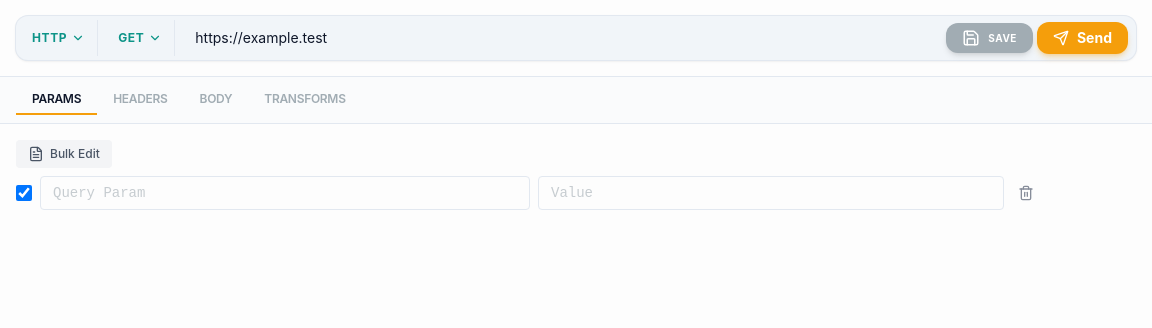
Test: RequestEditor body section › shows preview for valid JSON
This screenshot has width=1152, height=328.
Check: the button "GET" is shown, box top-left (106, 30), bottom-right (174, 46)
Click the button "body" at point(216, 100), box top-left (184, 85), bottom-right (248, 115)
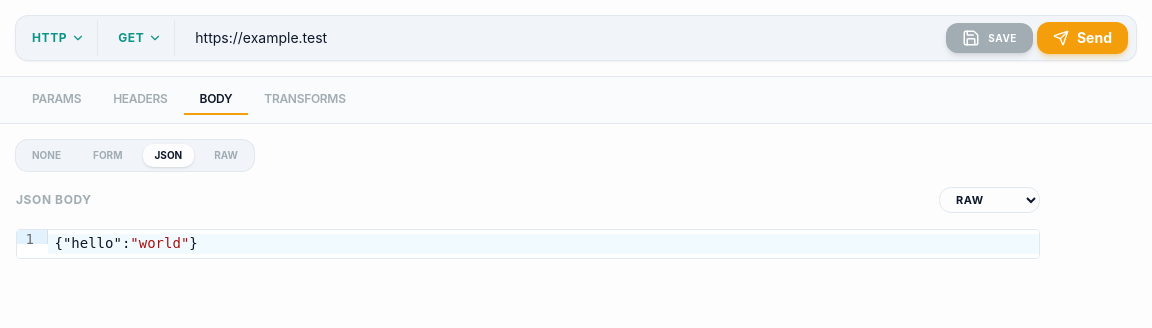
Check: the dropdown named "json view mode" shows "Raw"
Select "Preview" in the dropdown named "json view mode" at point(990, 200), box top-left (939, 187), bottom-right (1040, 213)
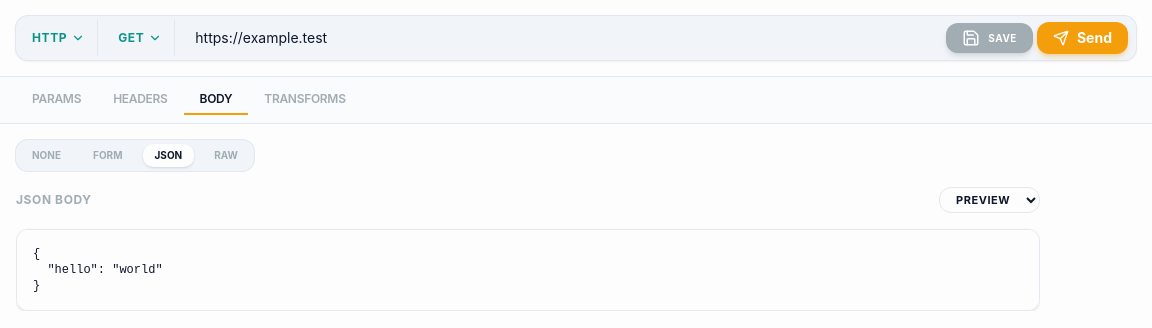
Check: the text "{ \"hello\": \"world\" }" is shown, box top-left (33, 247), bottom-right (163, 293)
